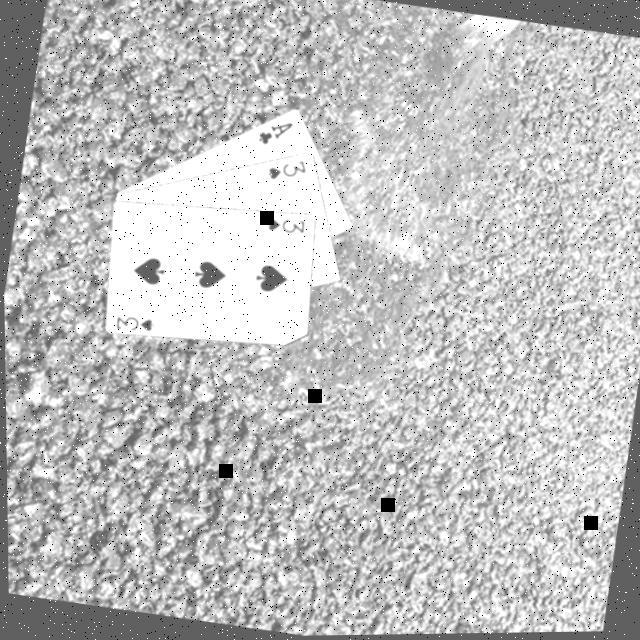3S: (265, 150, 312, 187), (263, 210, 310, 238), (113, 308, 160, 336)
AC: (255, 113, 298, 151)
